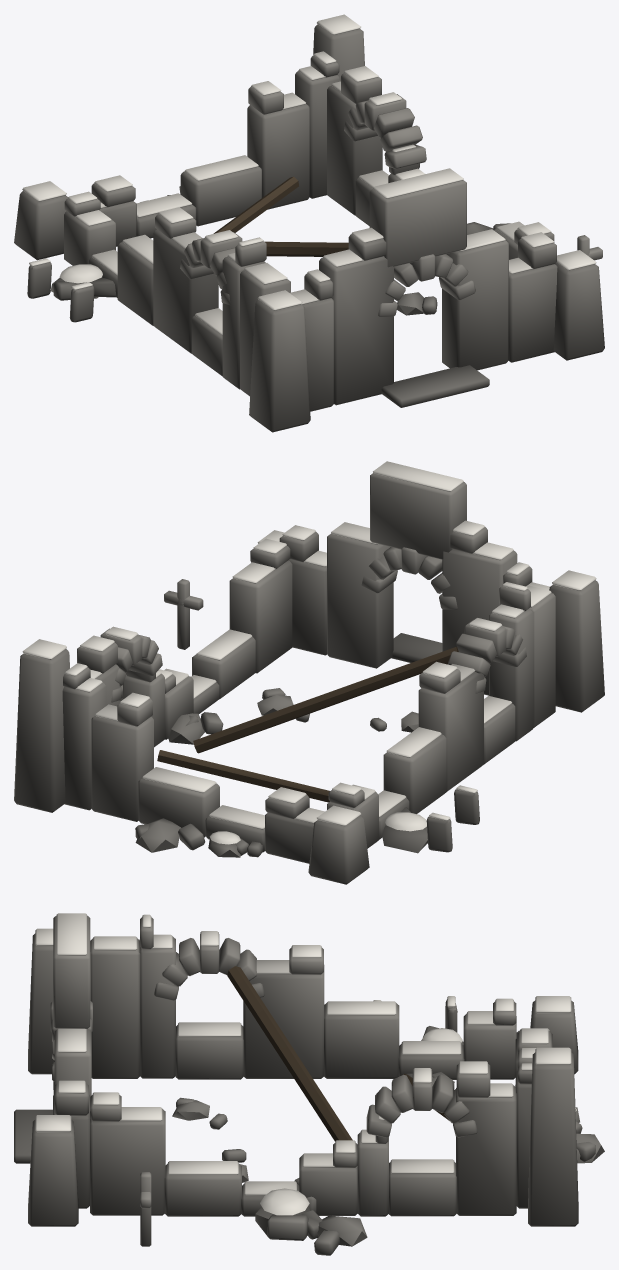
File: ruin.glb
The picture shows the model from 3 angles, top to bottom: view 1: azimuth 30°, elevation 25°; view 2: azimuth 150°, elevation 25°; view 3: azimuth 270°, elevation 25°; orthographic projection. The views are drawn at different scales.
Visible parts, largest first — view 1: ruin_stone, ruin_snow, ruin_wood; view 2: ruin_stone, ruin_snow, ruin_wood; view 3: ruin_stone, ruin_snow, ruin_wood.
Part boxes in pixels (bbox=[...]): ruin_stone: bbox=[14, 24, 604, 432]; ruin_snow: bbox=[22, 14, 596, 335]; ruin_wood: bbox=[213, 176, 348, 256]; ruin_stone: bbox=[14, 473, 604, 884]; ruin_snow: bbox=[22, 461, 596, 844]; ruin_wood: bbox=[157, 646, 458, 802]; ruin_stone: bbox=[14, 915, 604, 1255]; ruin_snow: bbox=[35, 913, 576, 1215]; ruin_wood: bbox=[227, 966, 449, 1141].
Size of the model in its own units: 11.51 by 5.22 by 12.77.
